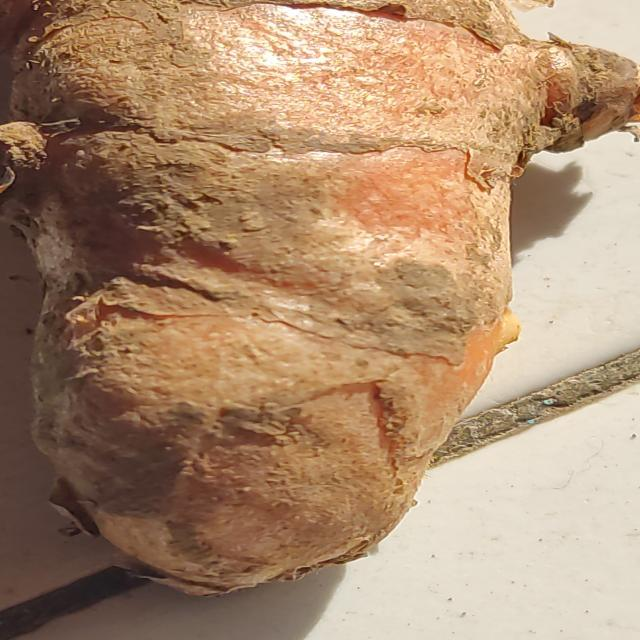ginger: (34, 2, 576, 568)
